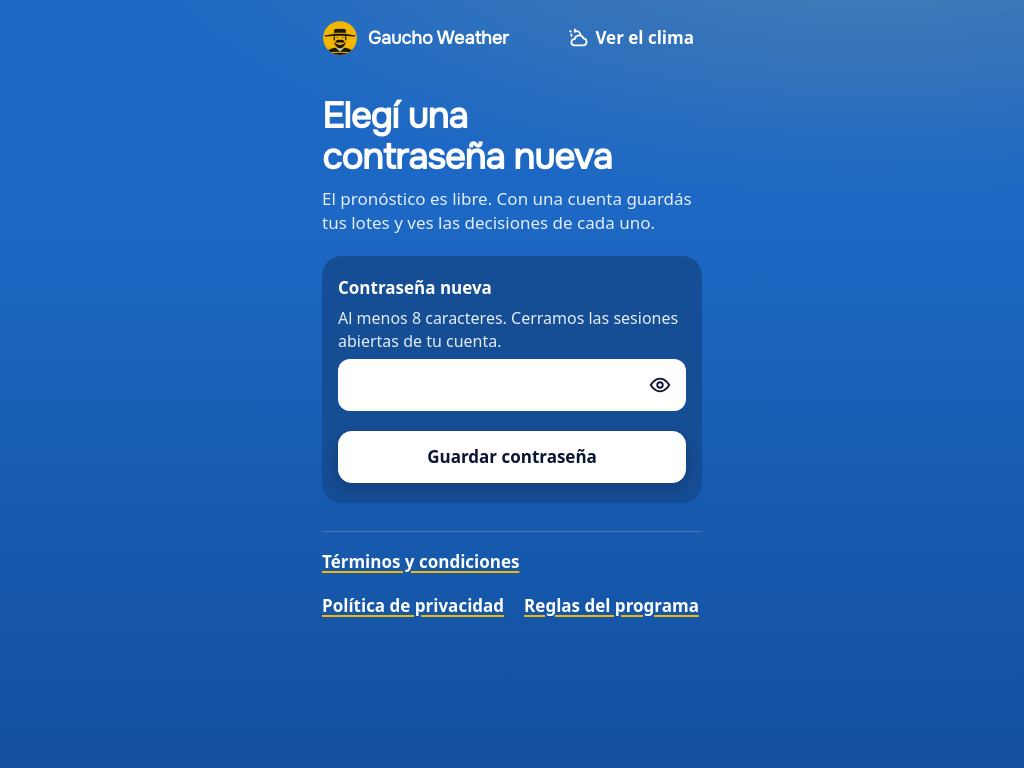
Test: Recuperar la contraseña (S5) › offers a new link when this one expired
Type "lluvia-de-noviembre" into the password field labelled "Contraseña nueva".
click(512, 385); type("lluvia-de-noviembre")  # box [338,359,686,411]
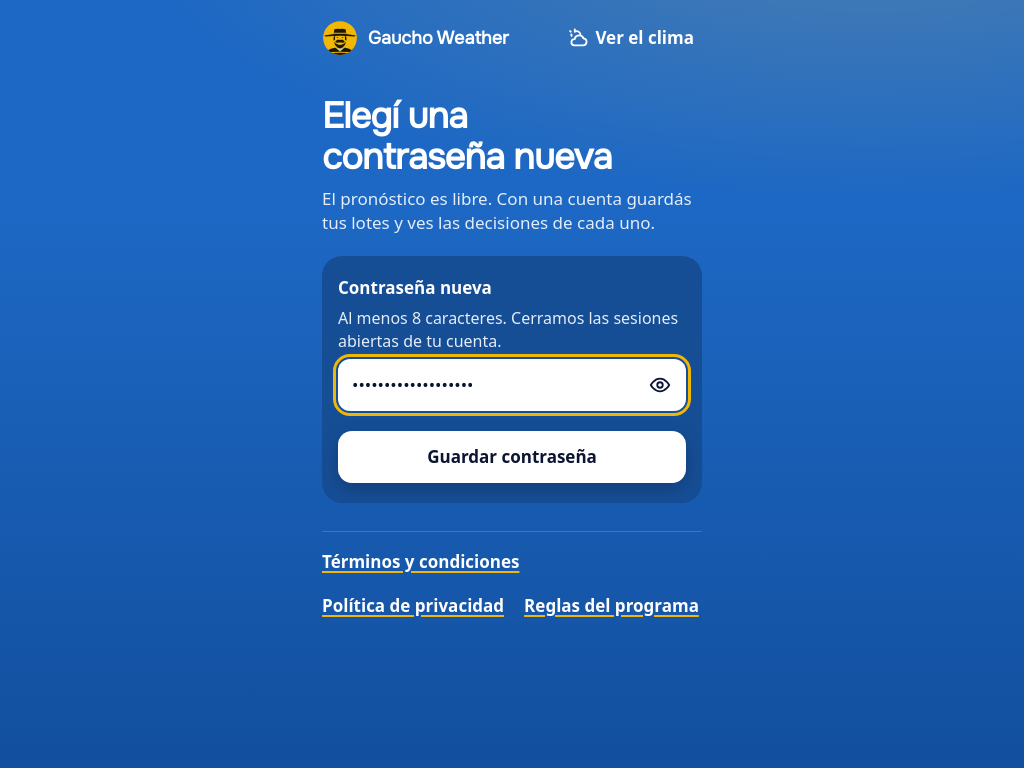
Click the button "Guardar contraseña".
click(512, 457)  # box [338,431,686,483]
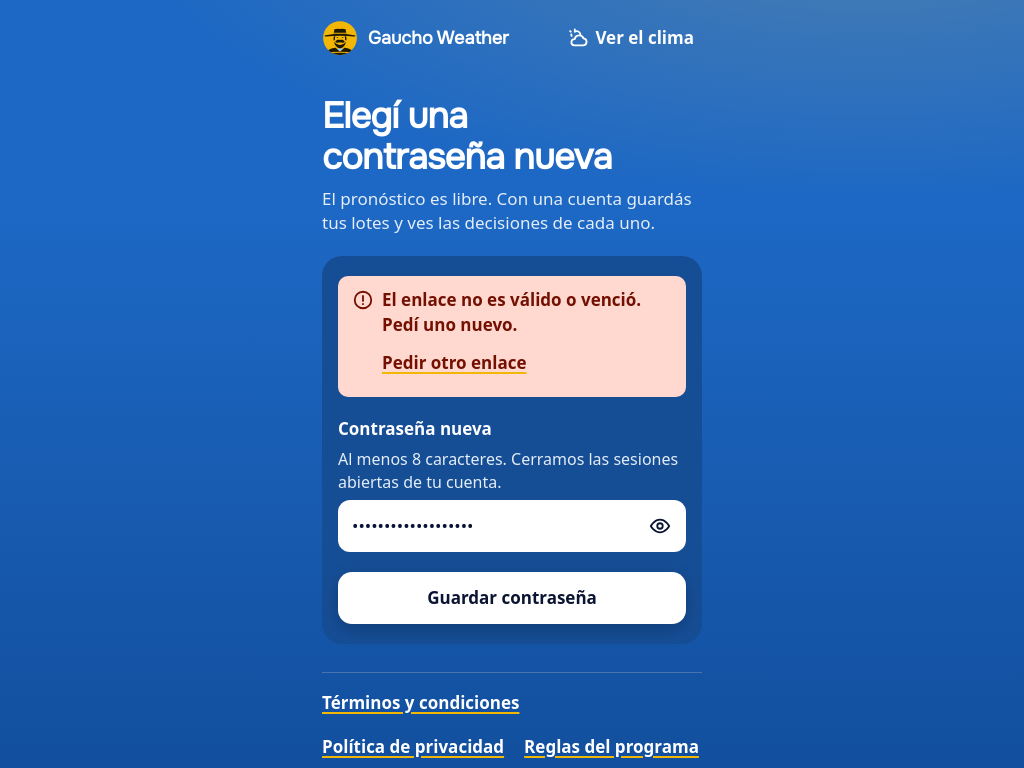
Expected: the message shows "El enlace no es válido o venció. Pedí uno nuevo.", [382,288,641,336]
